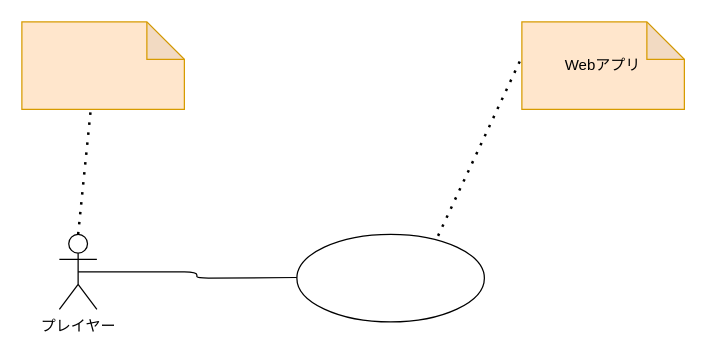
Image size: 706x358. Some labels were removed from this diagram. The centre of each missing label's shape, as x and y in pixels:
"リバーシ アプリケーション" goes at point 390,277.
"一人で交互に 白黒をうつ" goes at point 102,65.
